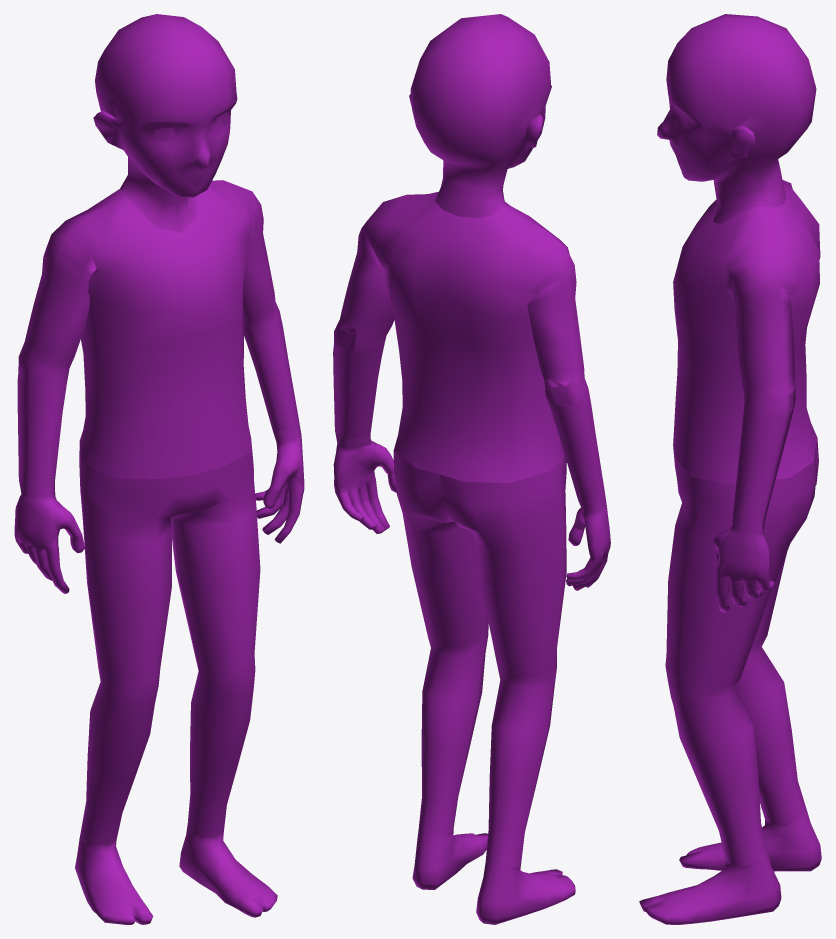
Rendered from spawn_point_avatar.glb.
3 renders of one model, left to right at view 1: azimuth 30°, elevation 25°; view 2: azimuth 150°, elevation 25°; view 3: azimuth 270°, elevation 25°, orthographic.
Visible parts, largest first — view 1: ShapeB; view 2: ShapeB; view 3: ShapeB.
Boxes of the visible parts, left/top/right/bottom form: ShapeB: left=14, top=14, right=304, bottom=924; ShapeB: left=333, top=14, right=610, bottom=924; ShapeB: left=639, top=14, right=821, bottom=924.
Size of the model in its own units: 0.6282 by 1.9 by 0.3599.
